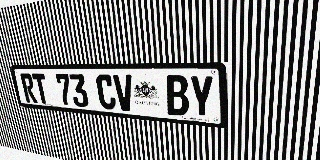3: (69, 74, 89, 108)
7: (54, 74, 74, 106)
B: (165, 75, 189, 116)
C: (95, 74, 117, 110)
R: (20, 73, 38, 103)
T: (32, 74, 50, 104)
V: (113, 74, 135, 112)
Y: (189, 75, 214, 119)
